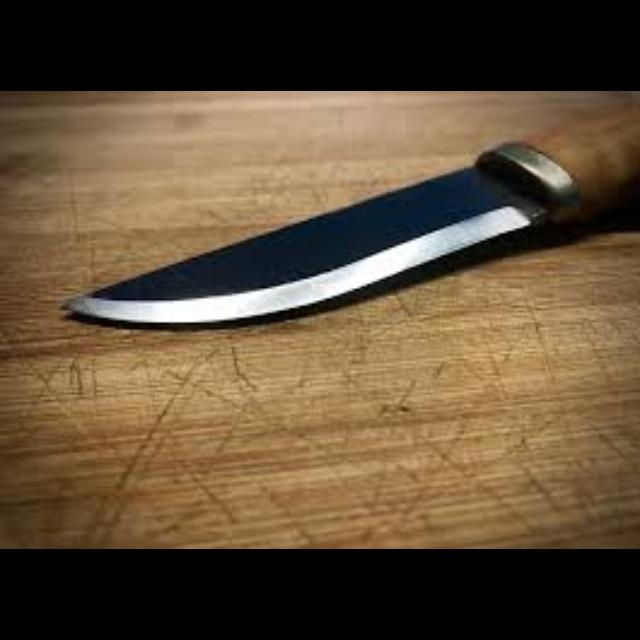Knife: (58, 91, 638, 327)
